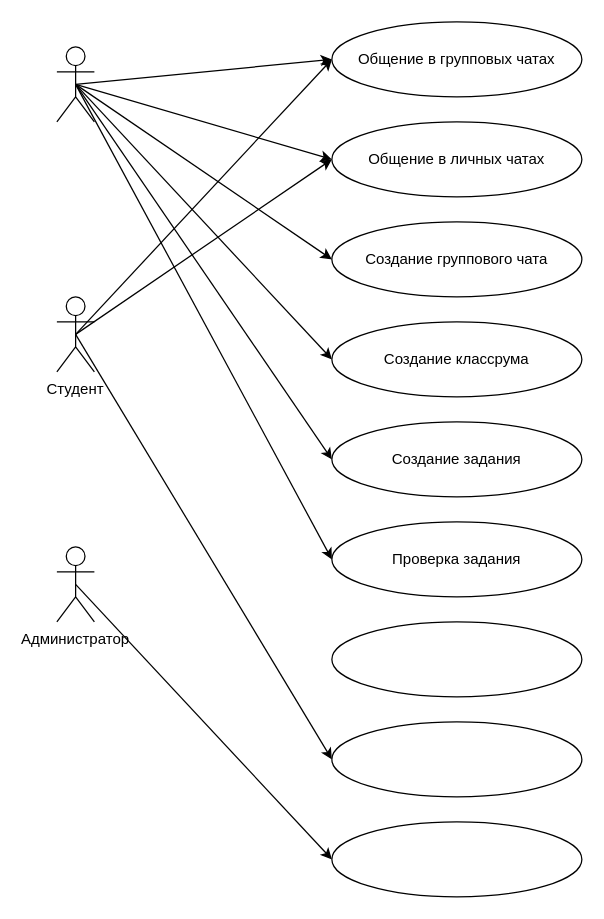
Some shapes in this 604 by 919 pixel diagram are drawn without their labels. The shapes that lost their labels are listed below. From the top down, each one's centre as x and y in pixels, then its label:
(75,84): Преподаватель
(456,659): Анализ кода AI
(456,759): Выполнение задания
(456,859): Управление институтами, группами и пользователями
